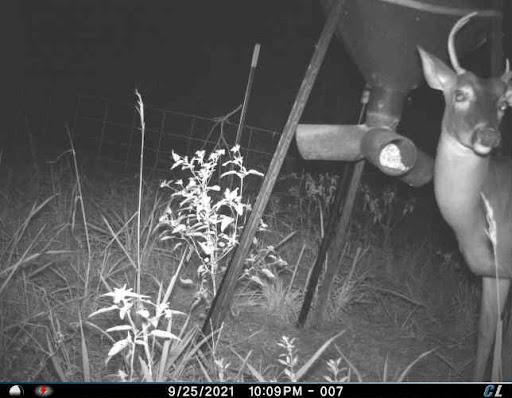Deer: (414, 6, 512, 383)
